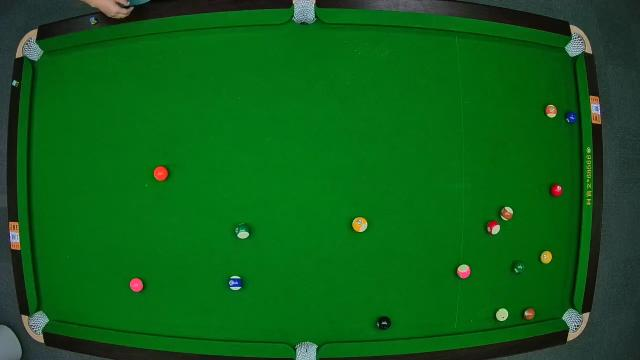bag1: (20, 40, 40, 61)
bag2: (292, 1, 316, 25)
bag3: (566, 35, 588, 55)
bag4: (28, 311, 48, 333)
bag5: (293, 340, 319, 360)
bag6: (562, 308, 582, 332)
ball0: (494, 308, 510, 322)
ball1: (540, 250, 554, 264)
ball10: (228, 274, 244, 292)
ball11: (486, 220, 500, 236)
ball12: (457, 264, 471, 280)
ball13: (546, 104, 558, 118)
ball14: (234, 224, 252, 240)
ball15: (500, 206, 514, 222)
ball2: (565, 112, 579, 124)
ball3: (550, 184, 564, 198)
ball4: (130, 278, 144, 294)
ball5: (153, 166, 169, 182)
ball6: (512, 260, 526, 276)
ball7: (522, 307, 536, 321)
ball8: (376, 316, 392, 330)
ball9: (352, 217, 368, 233)
